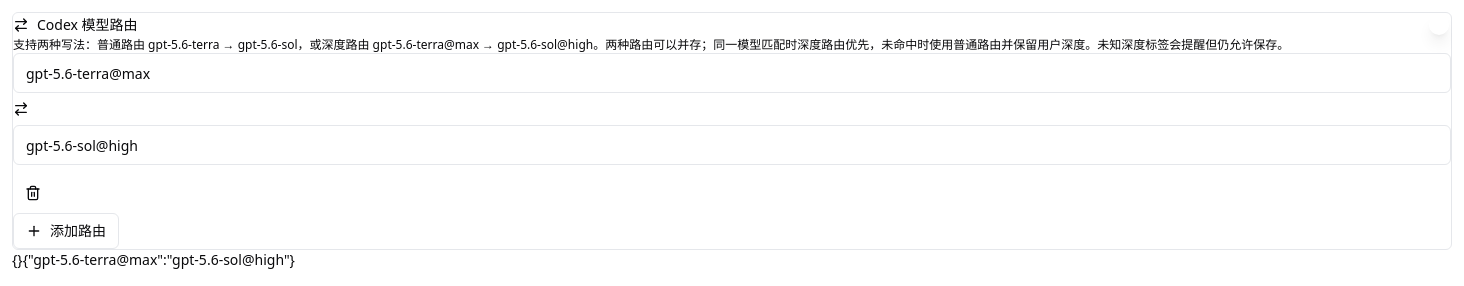
Test case: CodexModelMappingConfig › loads and saves effort-specific routes
Check: the field named "显示模型" holds "gpt-5.6-terra@max", box [13,53,1451,93]
Replace the text in the field named "实际模型" with "gpt-5.6-sol@xhigh" at x=732, y=145, box [13,125,1451,165]
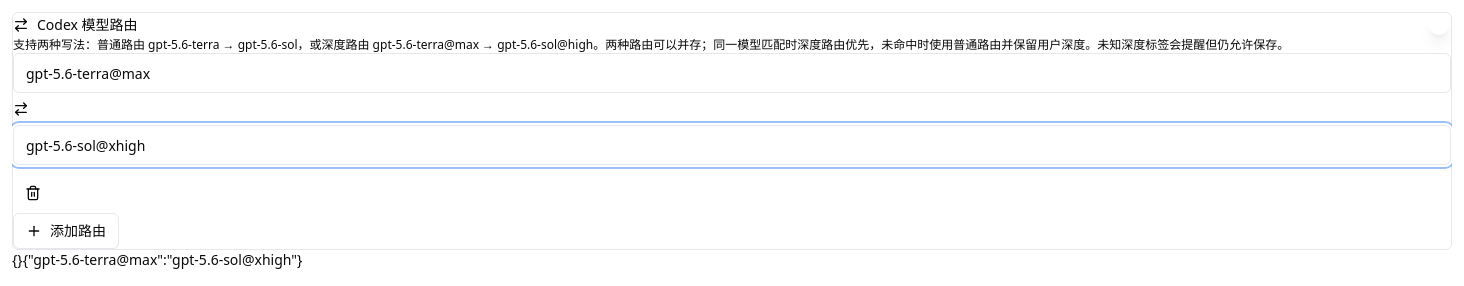
Check: the text with test id "model-map" reads "{}", box [12,250,23,269]
Check: the text with test id "effort-map" reads "{\"gpt-5.6-terra@max\":\"gpt-5.6-sol@xhigh\"}", box [23,250,302,269]
